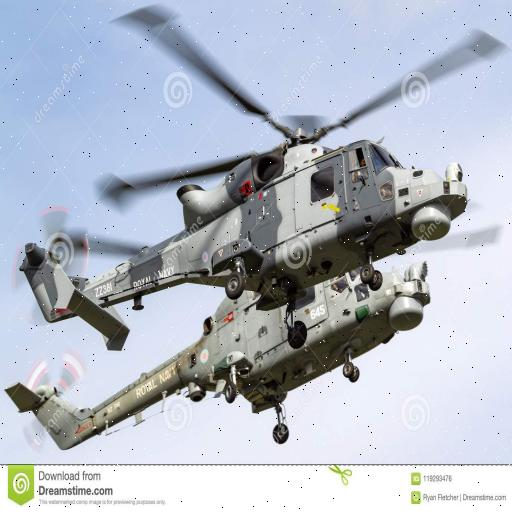helicopter: (23, 4, 498, 351), (34, 277, 438, 464)
